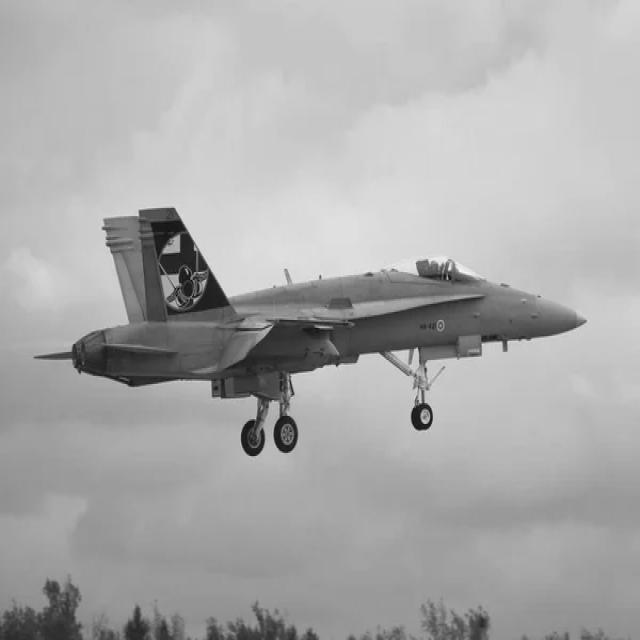Aircraft: (46, 189, 595, 454)
